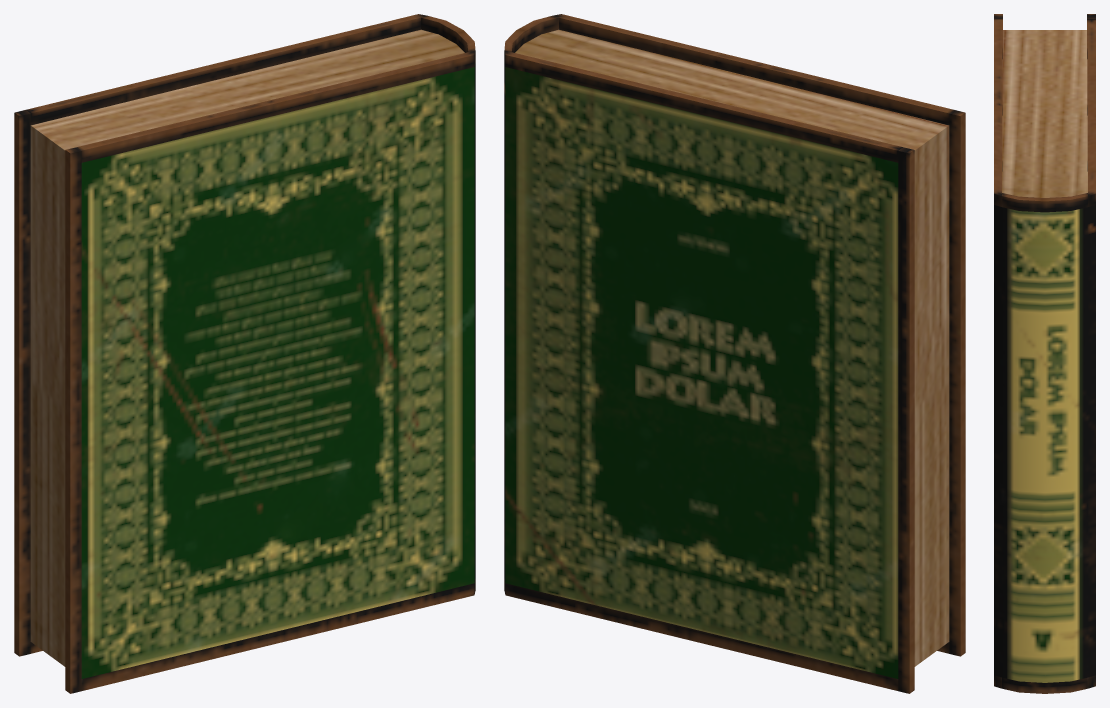
Rendered from Prop_Book_x5.fbx.
3 views of the same model, side by side, from view 1: azimuth 30°, elevation 25°; view 2: azimuth 150°, elevation 25°; view 3: azimuth 270°, elevation 25° (orthographic). The views are drawn at different scales.
Visible parts, largest first — view 1: Prop_Book_x5; view 2: Prop_Book_x5; view 3: Prop_Book_x5.
Boxes of the visible parts, <box> form: Prop_Book_x5: <box>14,14,475,693</box>; Prop_Book_x5: <box>504,14,965,693</box>; Prop_Book_x5: <box>994,14,1095,693</box>.
Size of the model in its own units: 11.46 by 14.04 by 2.64.
